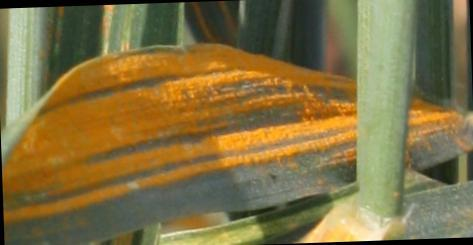Wheat: (89, 60, 262, 180), (268, 79, 353, 166), (6, 155, 85, 238), (411, 102, 412, 102)
